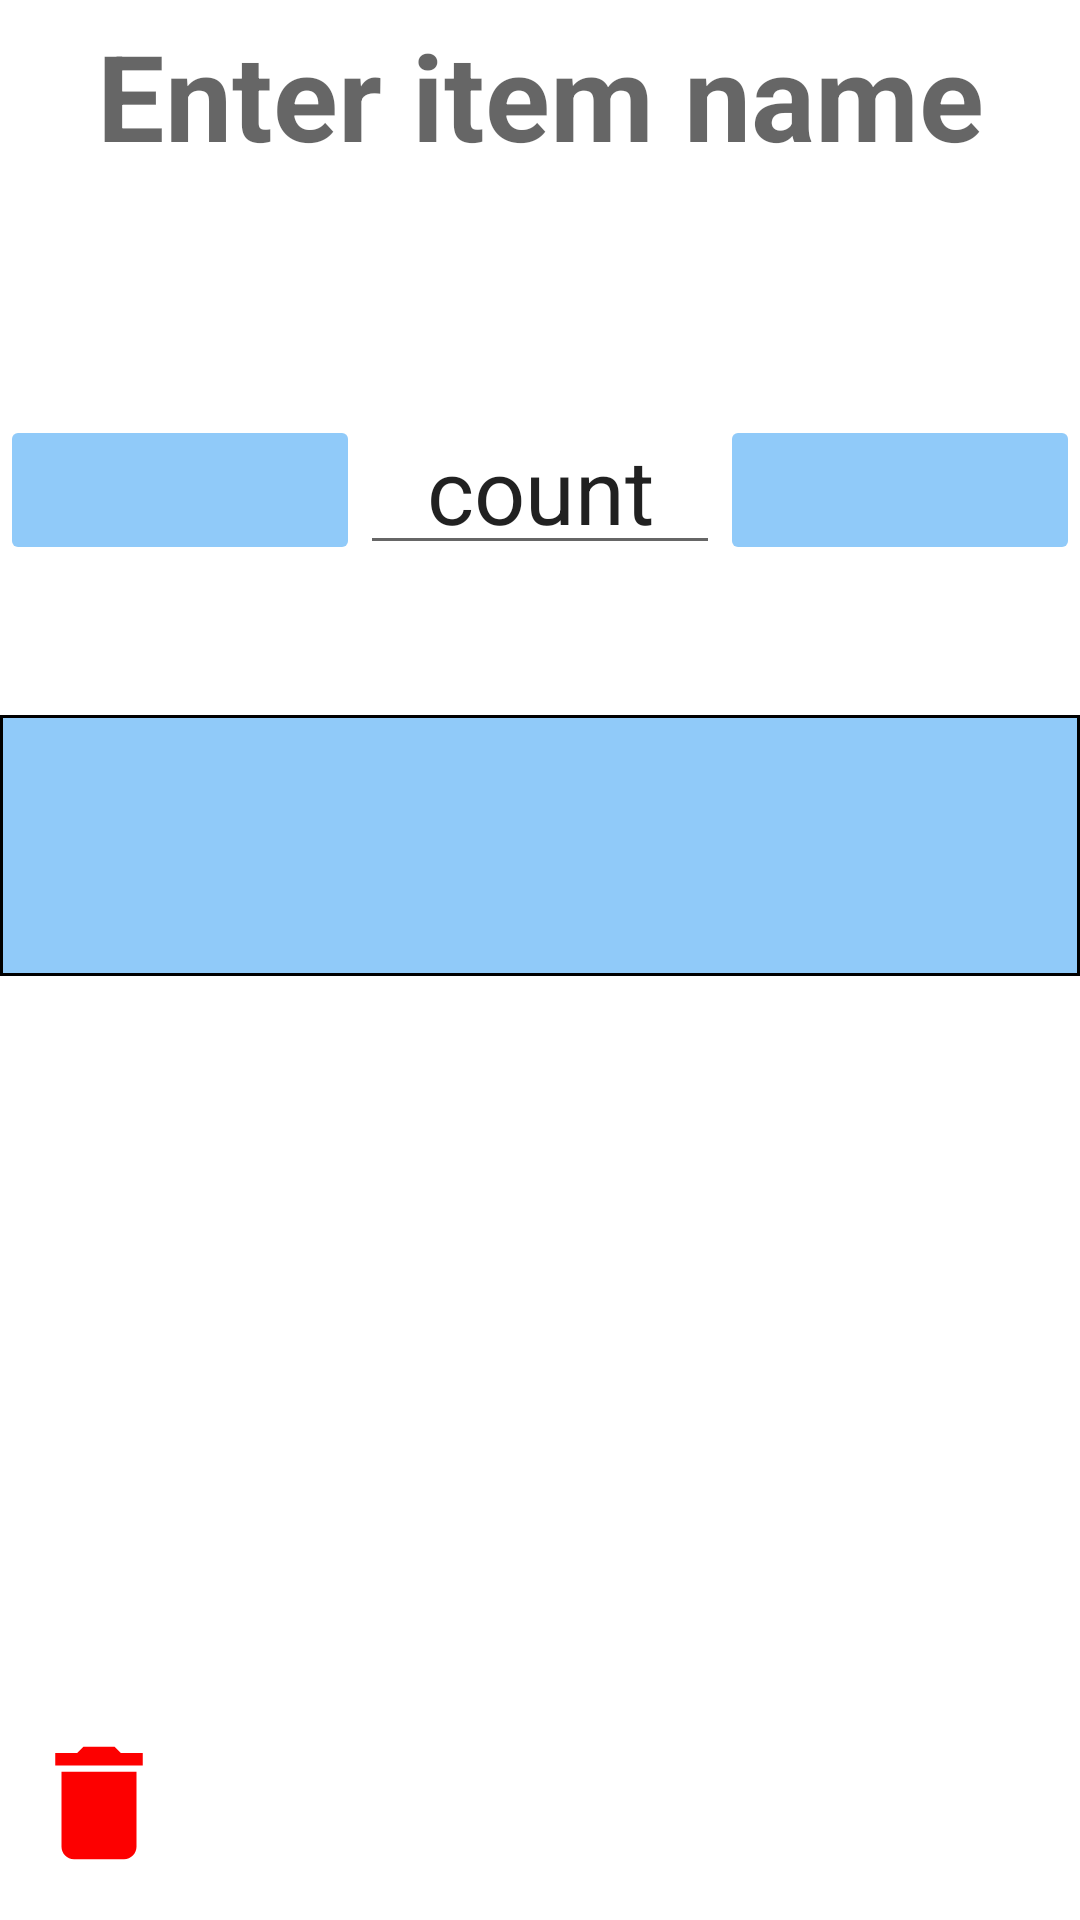

Screen size 1080*1920. Icon name, then its center in pixels as (x=x, y=y):
Remove item from inventory: (x=99, y=1803)
